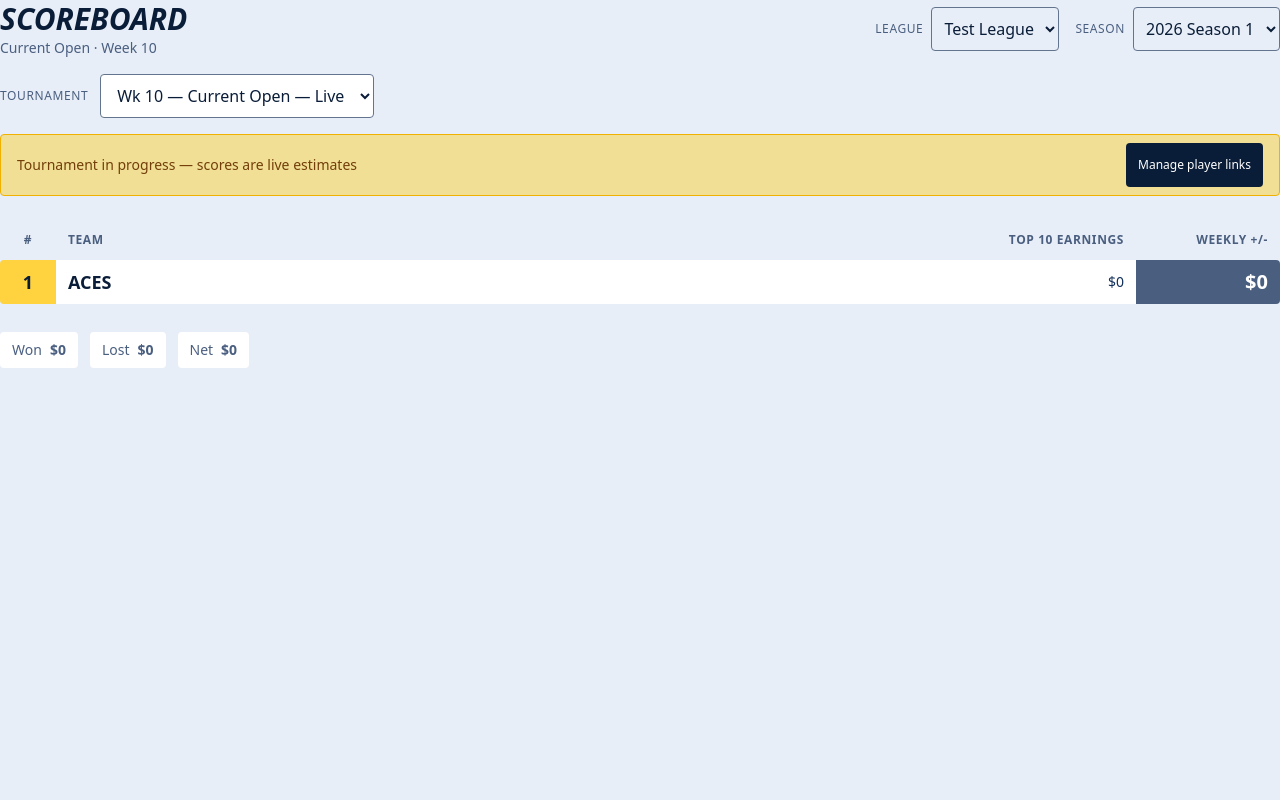
Test case: ScoreboardPage › shows the Manage player links button for an admin and opens the panel on click
Click the button "Manage player links": (1194, 164) [1126,142,1263,186]
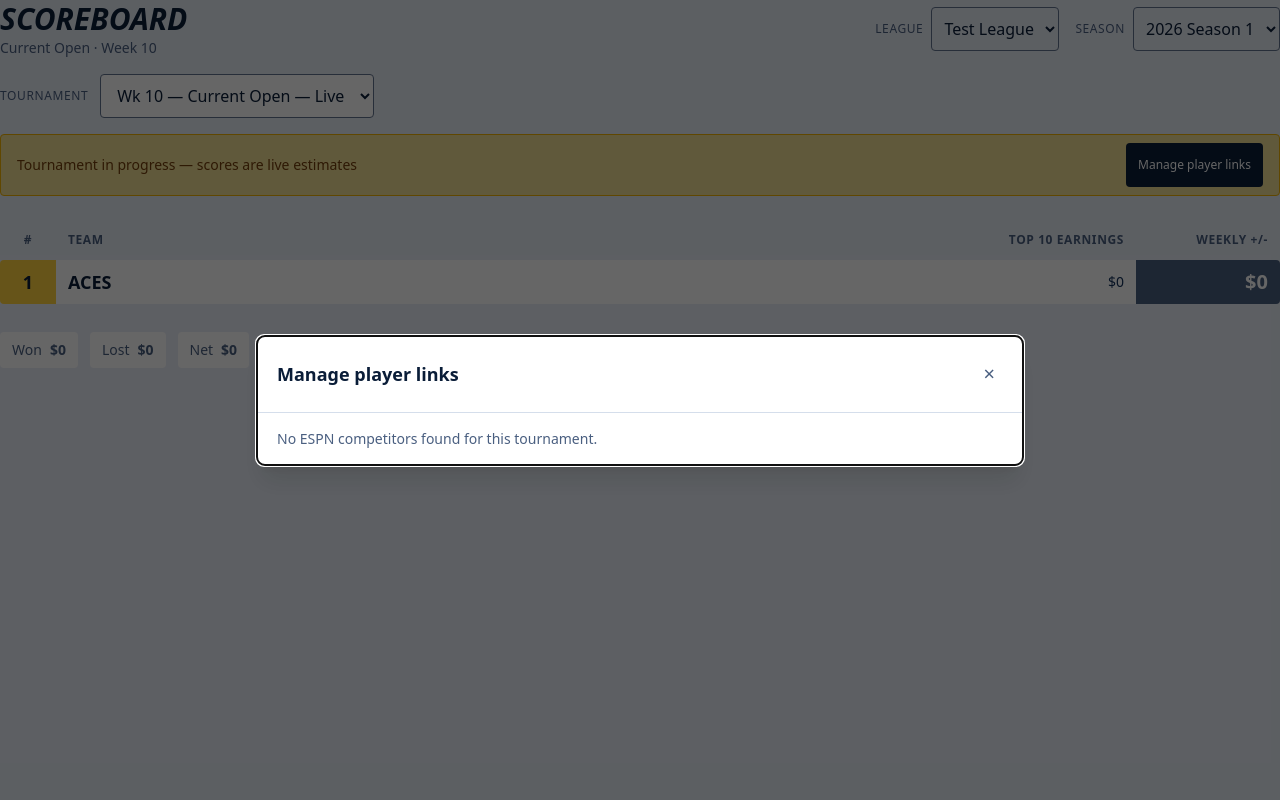
Expected: the dialog "Manage player links" is shown, [256,334,1024,466]
